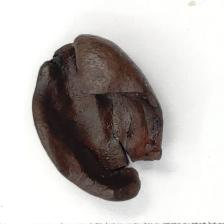NG: (34, 31, 99, 193), (100, 80, 168, 202)
